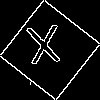X: (25, 25, 64, 74)
